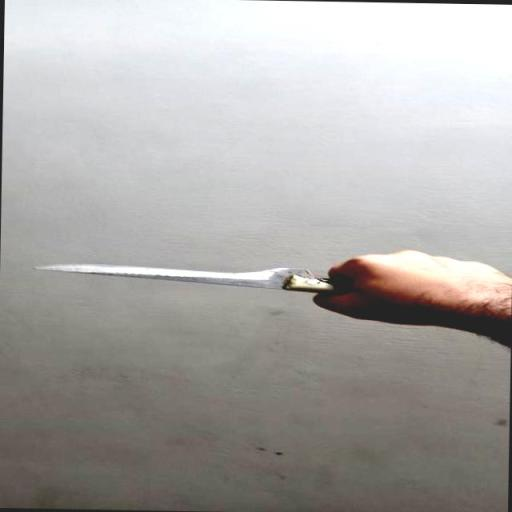knife: (18, 254, 410, 300)
